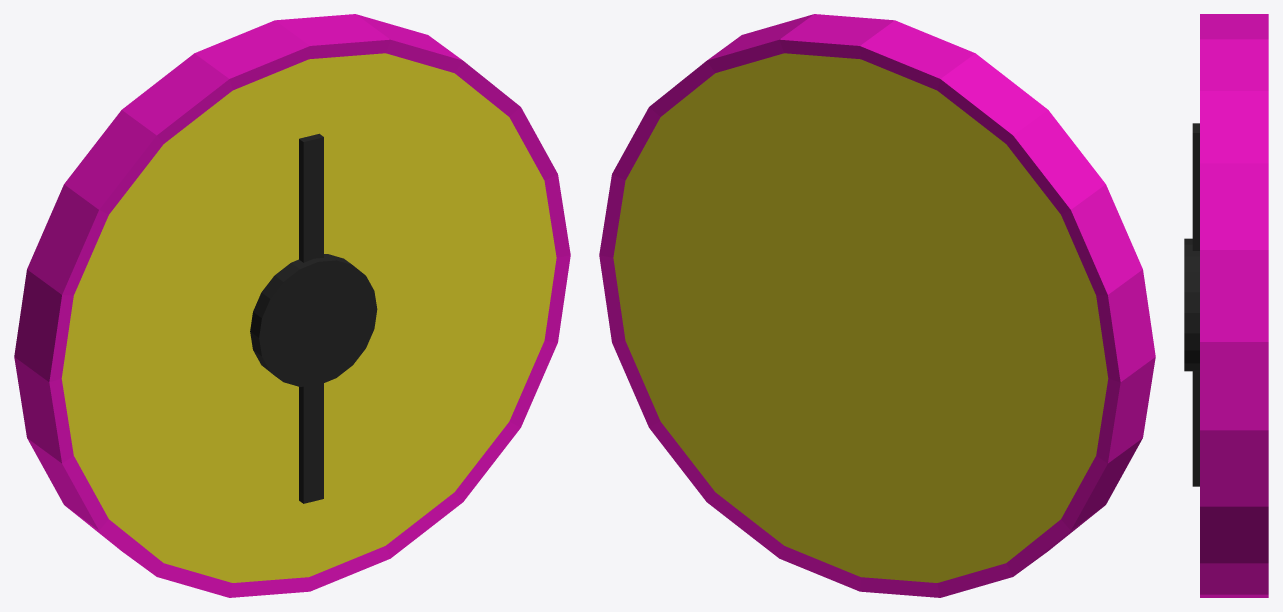
The model's file is clocknew.fbx.
3 renders of one model, left to right at view 1: azimuth 30°, elevation 25°; view 2: azimuth 150°, elevation 25°; view 3: azimuth 270°, elevation 25°, orthographic. The views are drawn at different scales.
Visible parts, largest first — view 1: Circle.002, Circle.003, Plane; view 2: Circle.002; view 3: Circle.002, Circle.003, Plane.
Boxes of the visible parts, <box> form: Circle.002: <box>14,14,570,597</box>; Circle.003: <box>250,254,377,386</box>; Plane: <box>299,133,323,503</box>; Circle.002: <box>599,14,1155,597</box>; Circle.002: <box>1200,14,1268,597</box>; Circle.003: <box>1184,238,1199,371</box>; Plane: <box>1192,123,1199,486</box>.
Bounding box in the file's own units: 30.4 × 30.4 × 4.37.
